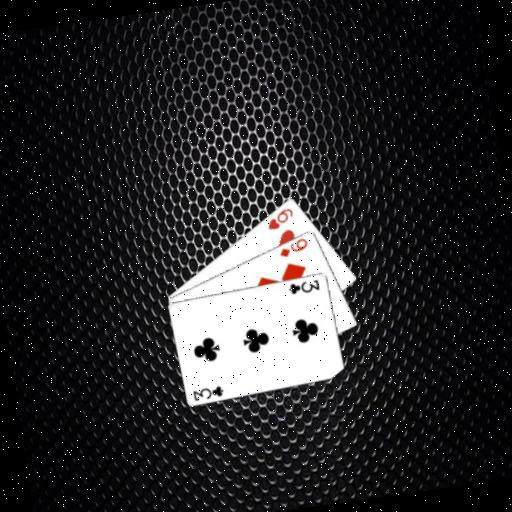3C: (190, 382, 227, 403), (285, 276, 321, 297)
6H: (263, 204, 297, 232)
9D: (275, 235, 310, 260)
